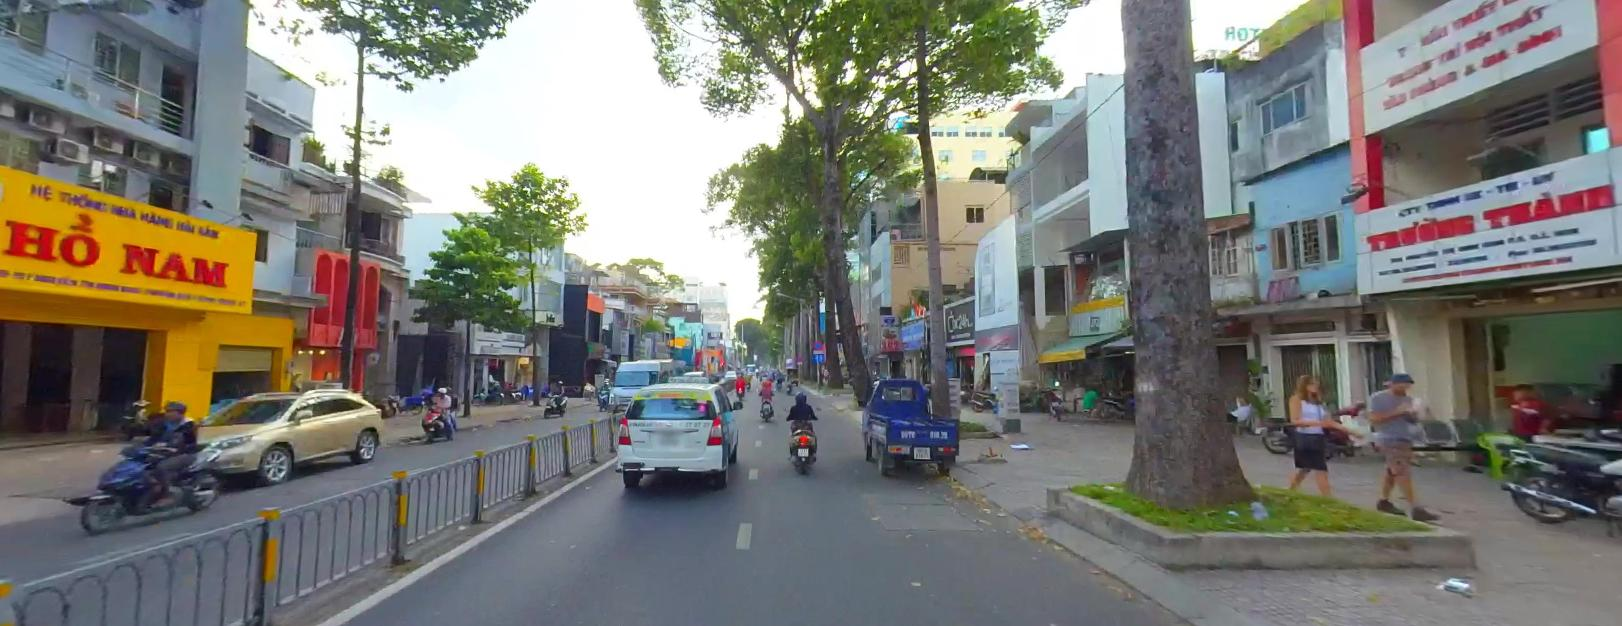Cam dung va do: (812, 339, 821, 348)
